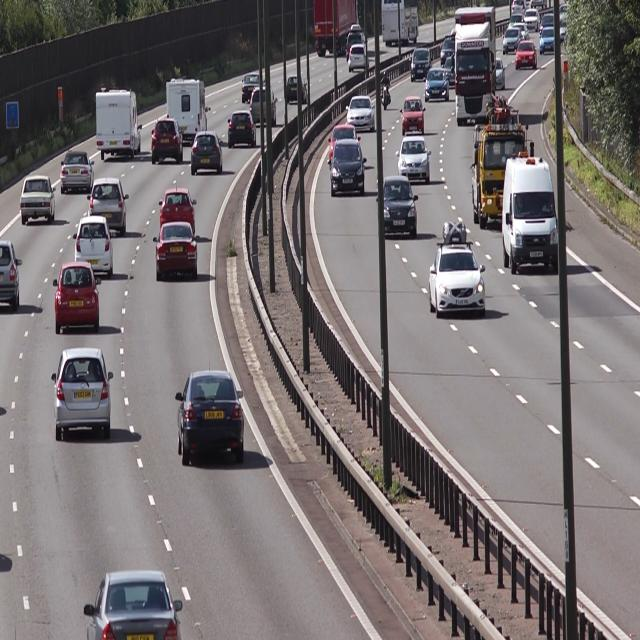Car: (501, 146, 562, 279), (473, 98, 528, 227), (174, 366, 244, 467), (85, 570, 182, 640), (427, 220, 489, 321), (49, 344, 114, 440), (456, 8, 497, 125), (94, 86, 144, 159), (54, 264, 100, 332), (164, 77, 210, 143), (70, 217, 116, 277), (380, 170, 421, 236), (153, 224, 199, 281), (89, 175, 129, 233), (331, 138, 368, 195), (20, 173, 58, 225), (395, 137, 436, 185), (158, 187, 198, 232), (150, 117, 182, 167), (190, 130, 223, 178), (60, 151, 94, 194), (348, 92, 377, 135), (250, 85, 278, 129), (229, 110, 257, 149), (399, 95, 426, 133), (426, 68, 451, 104), (515, 42, 541, 75)
